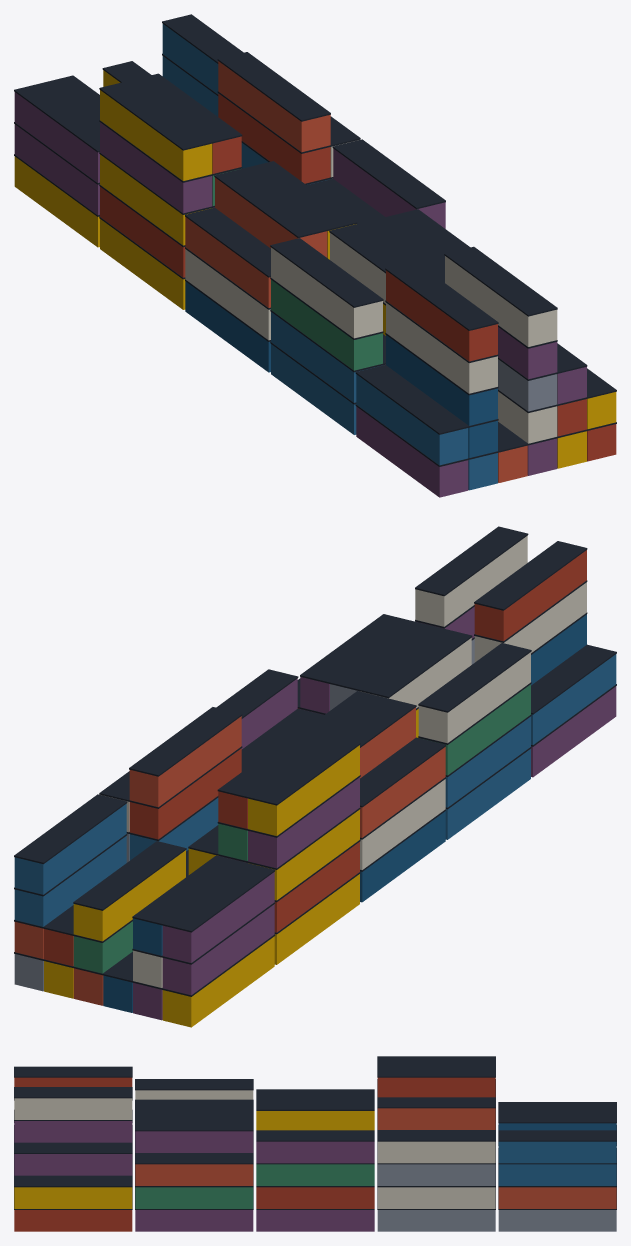
Rendered from container_block_a.glb.
3 views of the same model, one above another, from view 1: azimuth 30°, elevation 25°; view 2: azimuth 150°, elevation 25°; view 3: azimuth 270°, elevation 25° (orthographic). The views are drawn at different scales.
Parts seen in each view (by area): view 1: block; view 2: block; view 3: block.
Boxes of the visible parts, box(x1,y1,x2,y2) form: block: box(14, 14, 616, 497); block: box(14, 526, 616, 1027); block: box(14, 1056, 616, 1231).
Size of the model in its own units: 15 by 13.01 by 62.25.
